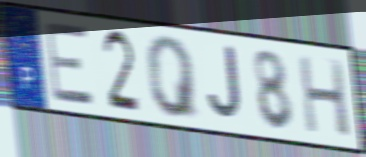2: (100, 28, 142, 115)
8: (252, 48, 297, 133)
E: (42, 21, 98, 108)
H: (295, 53, 353, 140)
J: (205, 44, 245, 124)
Q: (144, 35, 202, 122)
